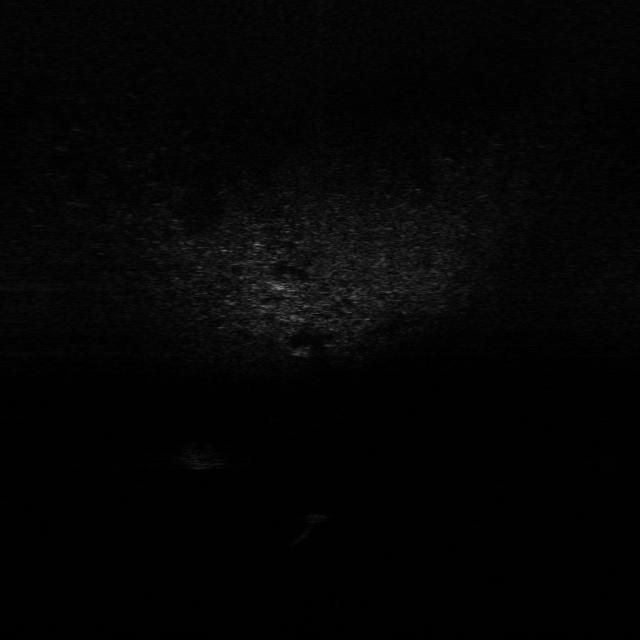circle cage: (172, 439, 226, 471)
cylinder: (290, 511, 326, 547)
